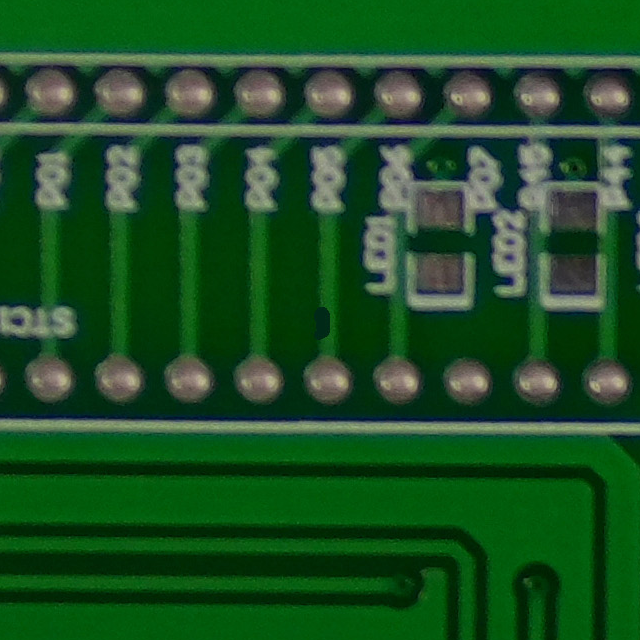mouse_bite: (294, 295, 347, 346)
